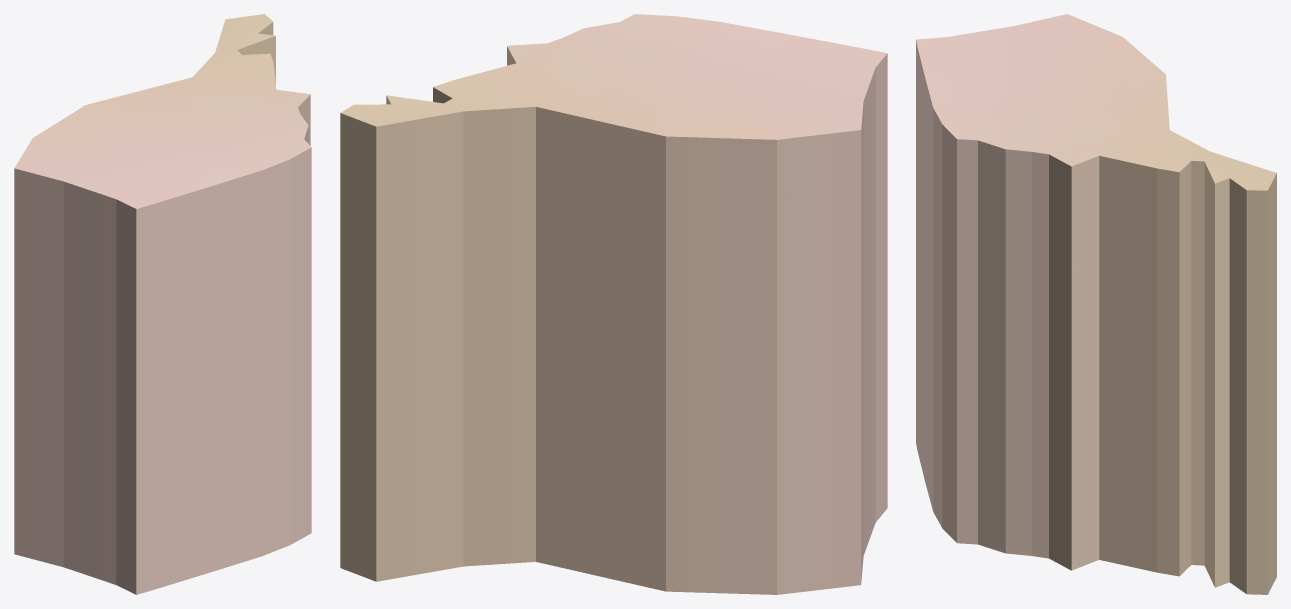
Rendered from keyport.glb.
3 renders of one model, left to right at view 1: azimuth 30°, elevation 25°; view 2: azimuth 150°, elevation 25°; view 3: azimuth 270°, elevation 25°, orthographic. The views are drawn at different scales.
Parts seen in each view (by area): view 1: Plane.071; view 2: Plane.071; view 3: Plane.071.
Part boxes in pixels (x1=…): Plane.071: x1=14, y1=14, x2=311, y2=594; Plane.071: x1=340, y1=14, x2=887, y2=594; Plane.071: x1=916, y1=14, x2=1276, y2=594.
Size of the model in its own units: 0.3618 by 0.3856 by 0.3119.
Materials: 1 (1 with a texture image).
